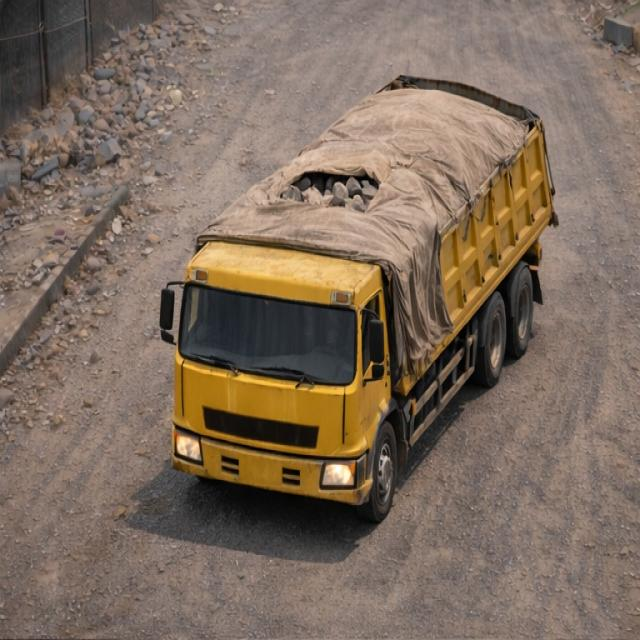Box: (201, 72, 548, 242)
Truck: (158, 43, 564, 520)
